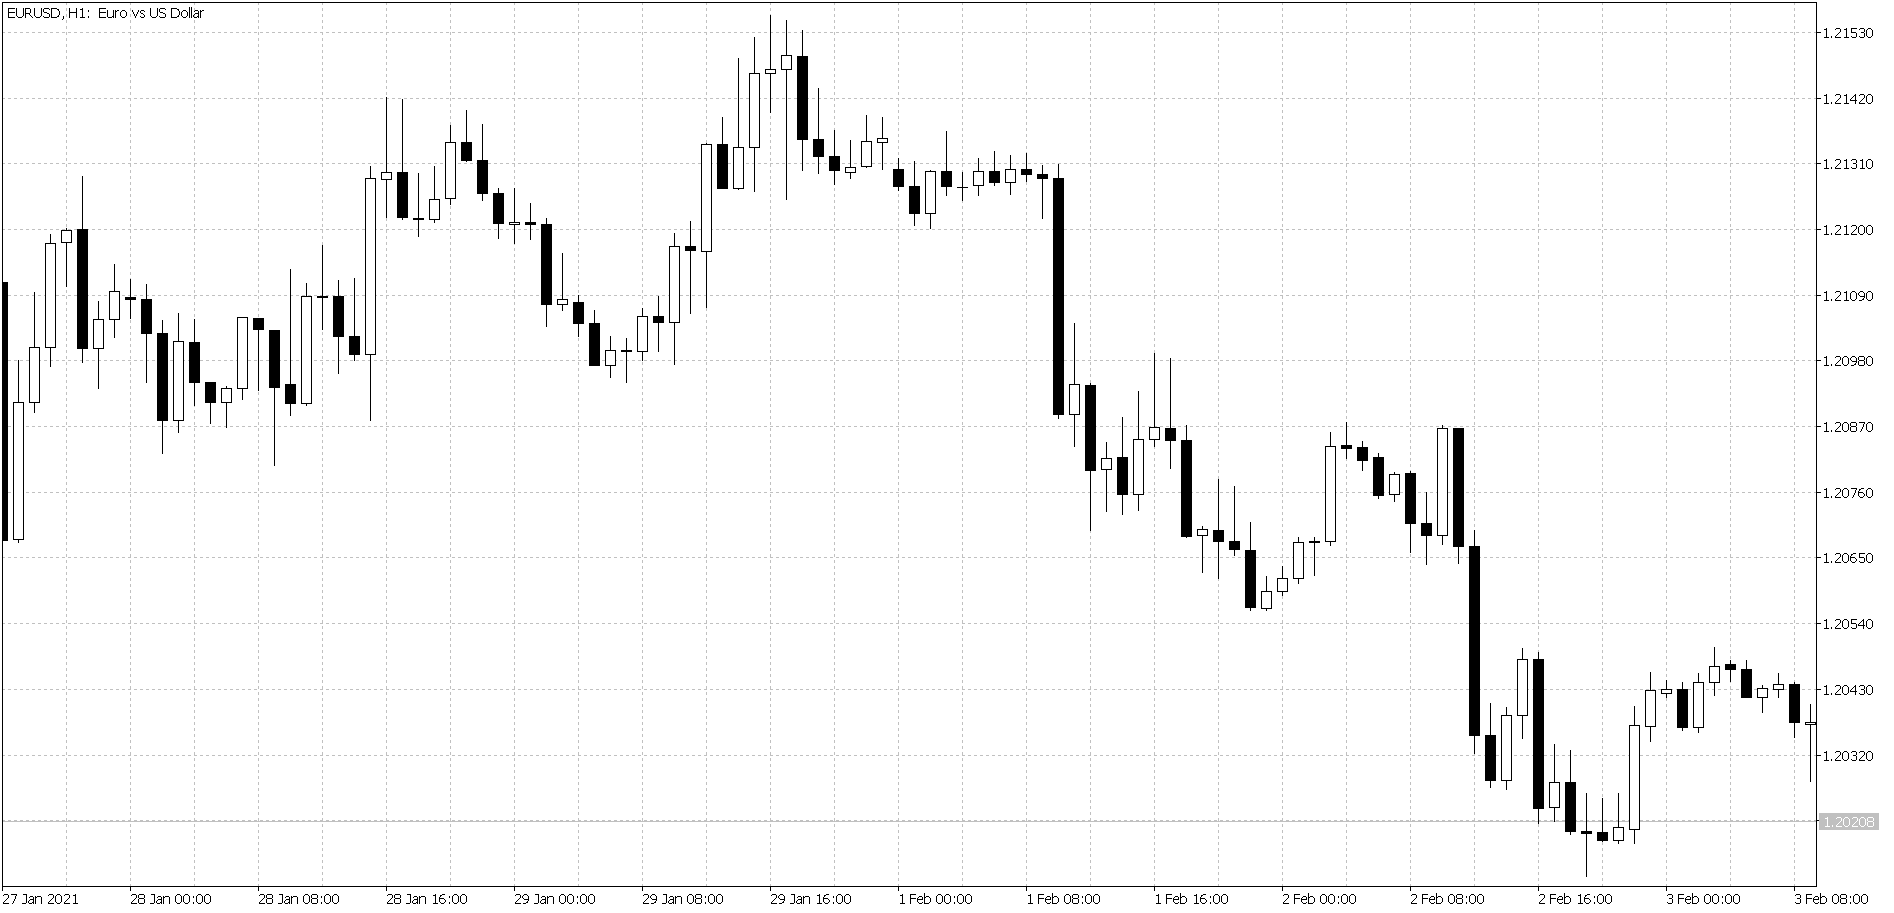3whitesoldiers: (1260, 537, 1306, 622)
bearishEngulfing: (1433, 419, 1466, 560)
bullishEngulfing: (1483, 702, 1514, 796)
eveningStar: (1321, 423, 1369, 554)
hammer: (1196, 524, 1209, 591), (219, 385, 236, 434)
hangingMan: (251, 315, 265, 401), (459, 105, 477, 167)
